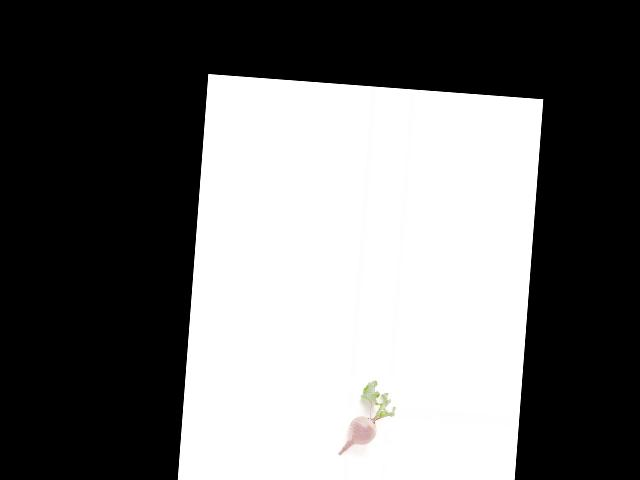beet: (338, 377, 397, 458)
